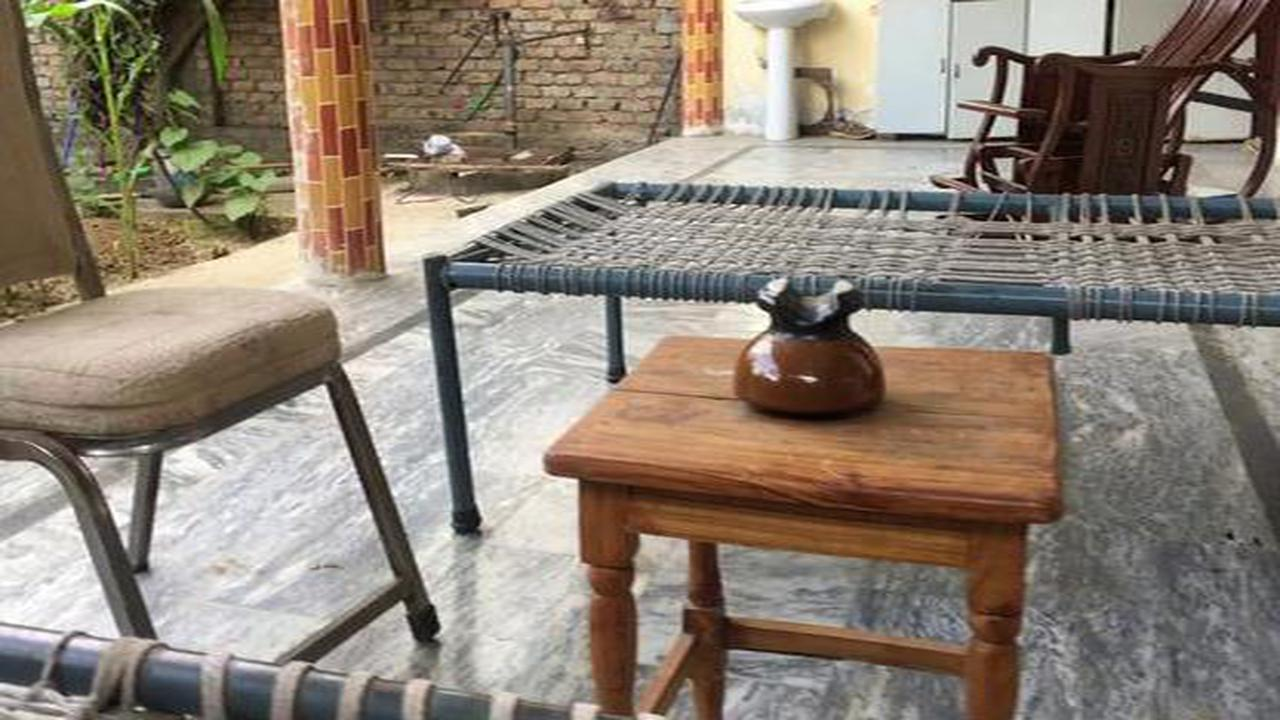insulator_pin: (711, 257, 914, 431)
